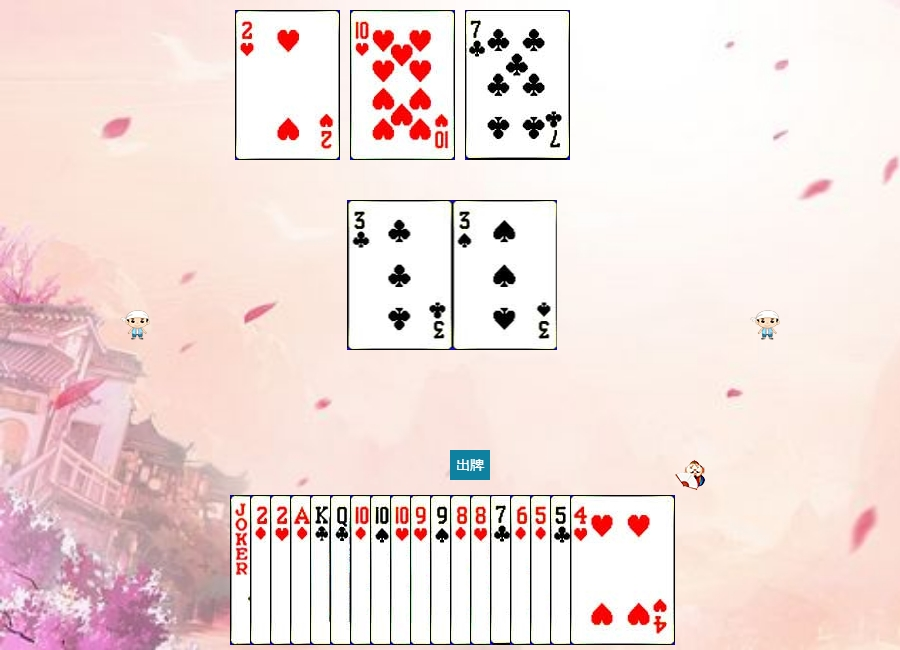10~1: (350, 495, 455, 645)
10~3: (350, 10, 455, 160), (390, 495, 495, 645)
10~4: (370, 495, 475, 645)
12~2: (330, 495, 435, 645)
13~2: (310, 495, 415, 645)
14~1: (290, 495, 395, 645)
15~1: (250, 495, 355, 645)
15~3: (235, 10, 340, 160), (270, 495, 375, 645)
18~4: (230, 495, 335, 645)
3~2: (348, 200, 453, 350)
3~4: (453, 200, 558, 350)
4~3: (570, 495, 675, 645)
5~1: (530, 495, 635, 645)
5~2: (550, 495, 655, 645)
6~1: (510, 495, 615, 645)
7~2: (465, 10, 570, 160), (490, 495, 595, 645)
8~1: (450, 495, 555, 645)
8~3: (470, 495, 575, 645)
9~3: (410, 495, 515, 645)
9~4: (430, 495, 535, 645)
